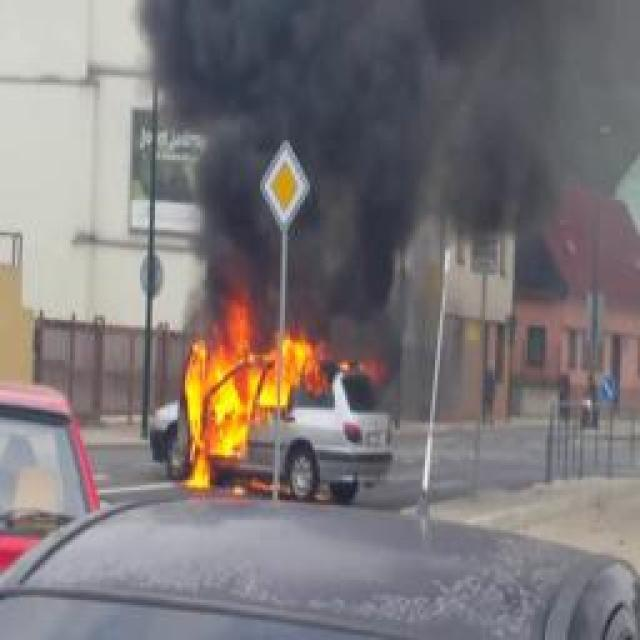Fire: (188, 290, 320, 498), (260, 333, 317, 411)
Smoke: (162, 0, 610, 226)
